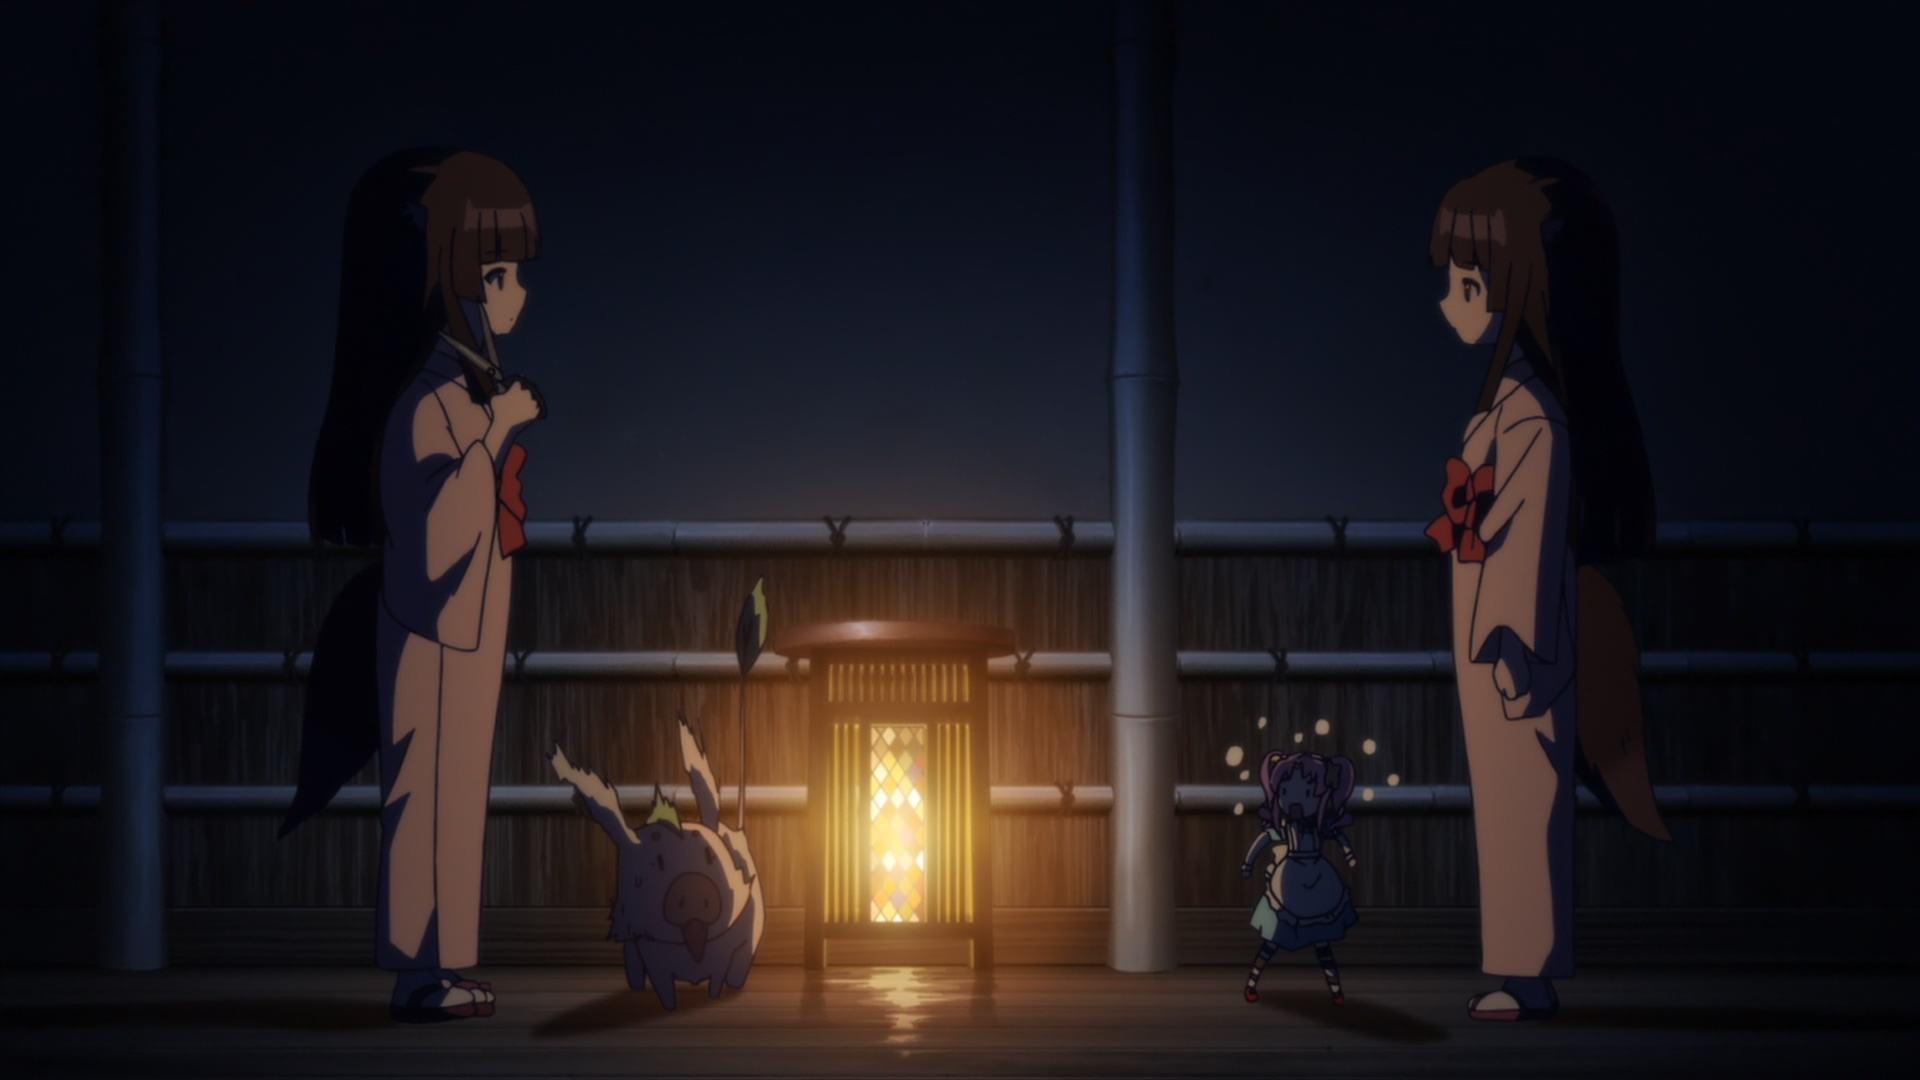樱: (266, 145, 543, 1025), (1429, 156, 1679, 1027)
瓜之介: (553, 578, 773, 1007)
阿菊: (1240, 741, 1360, 1000)
